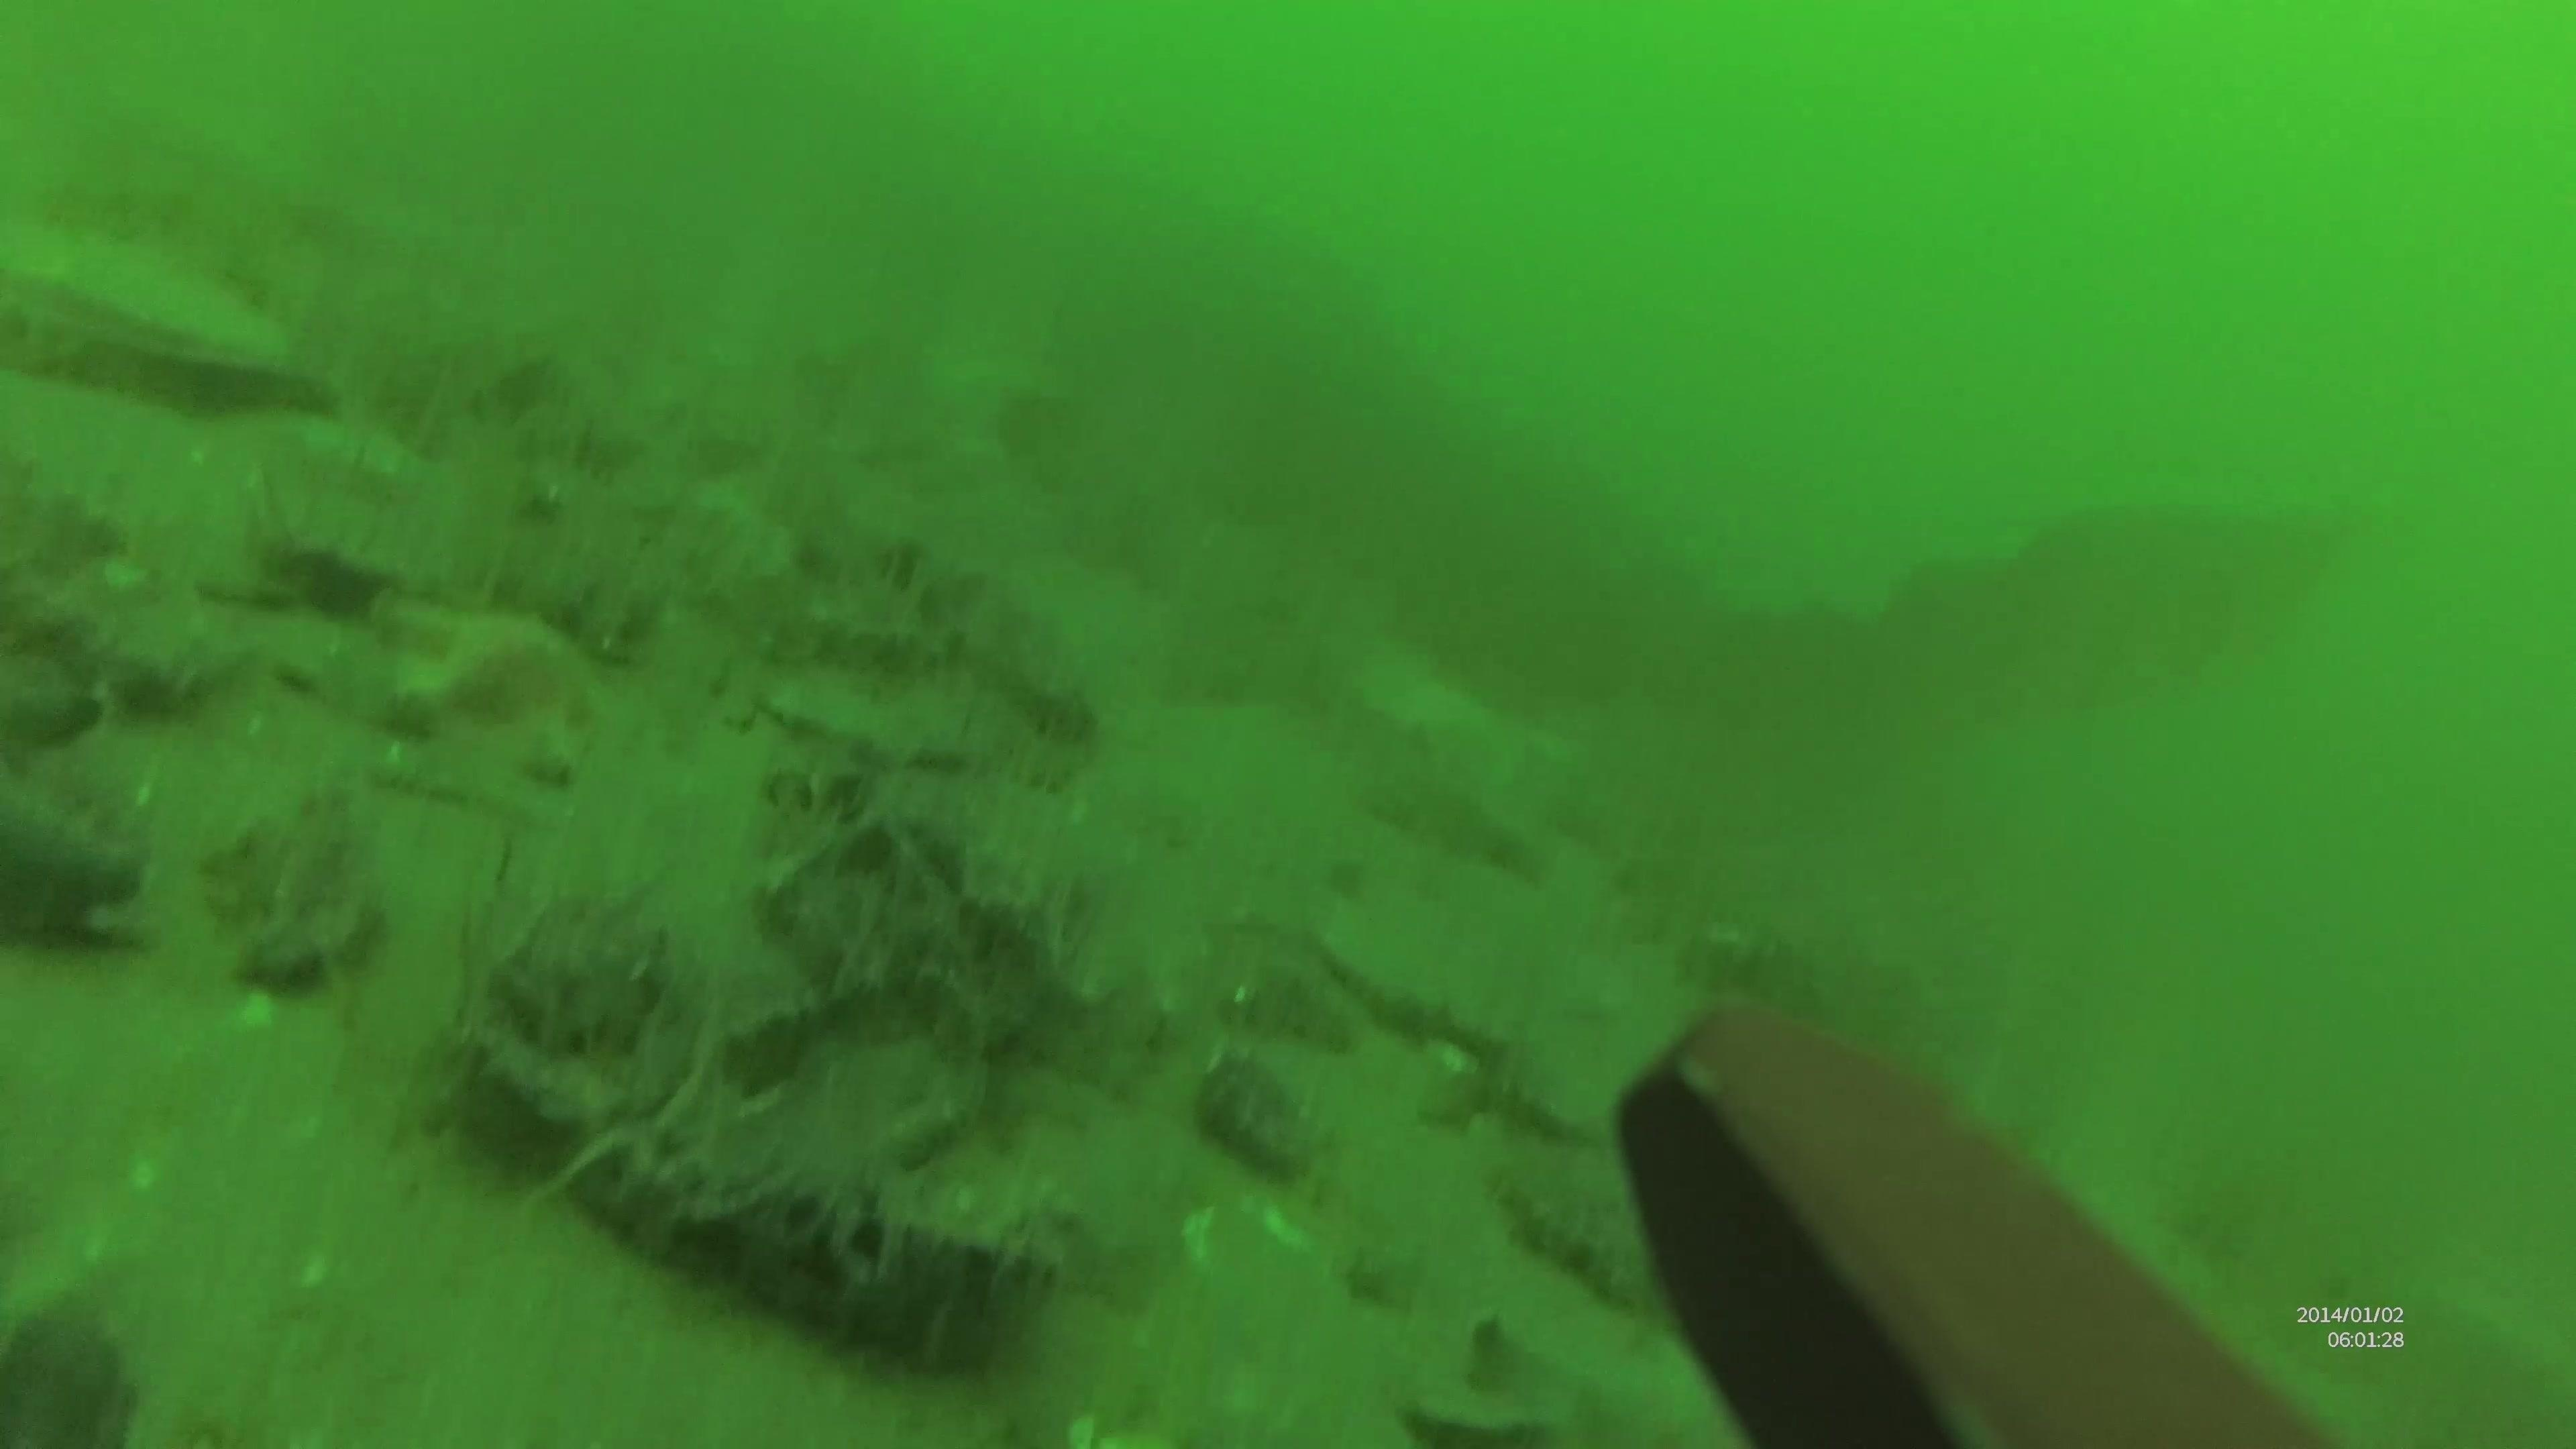scallop: (4, 242, 326, 416)
